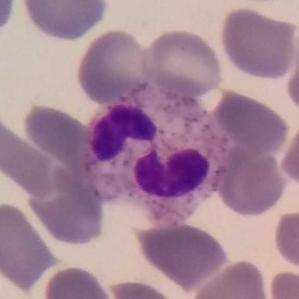Neutrophil: (82, 86, 237, 219)
RBC: (0, 105, 72, 198), (25, 170, 109, 249), (133, 220, 230, 287), (73, 27, 155, 106), (138, 26, 225, 100), (217, 5, 299, 82), (214, 144, 288, 219), (0, 198, 59, 292), (18, 101, 97, 170), (211, 87, 291, 155), (17, 0, 112, 43), (187, 257, 271, 299), (41, 263, 116, 299), (271, 207, 299, 272), (101, 278, 184, 299), (282, 21, 299, 116), (277, 117, 299, 189), (266, 267, 299, 299), (1, 0, 19, 42)
